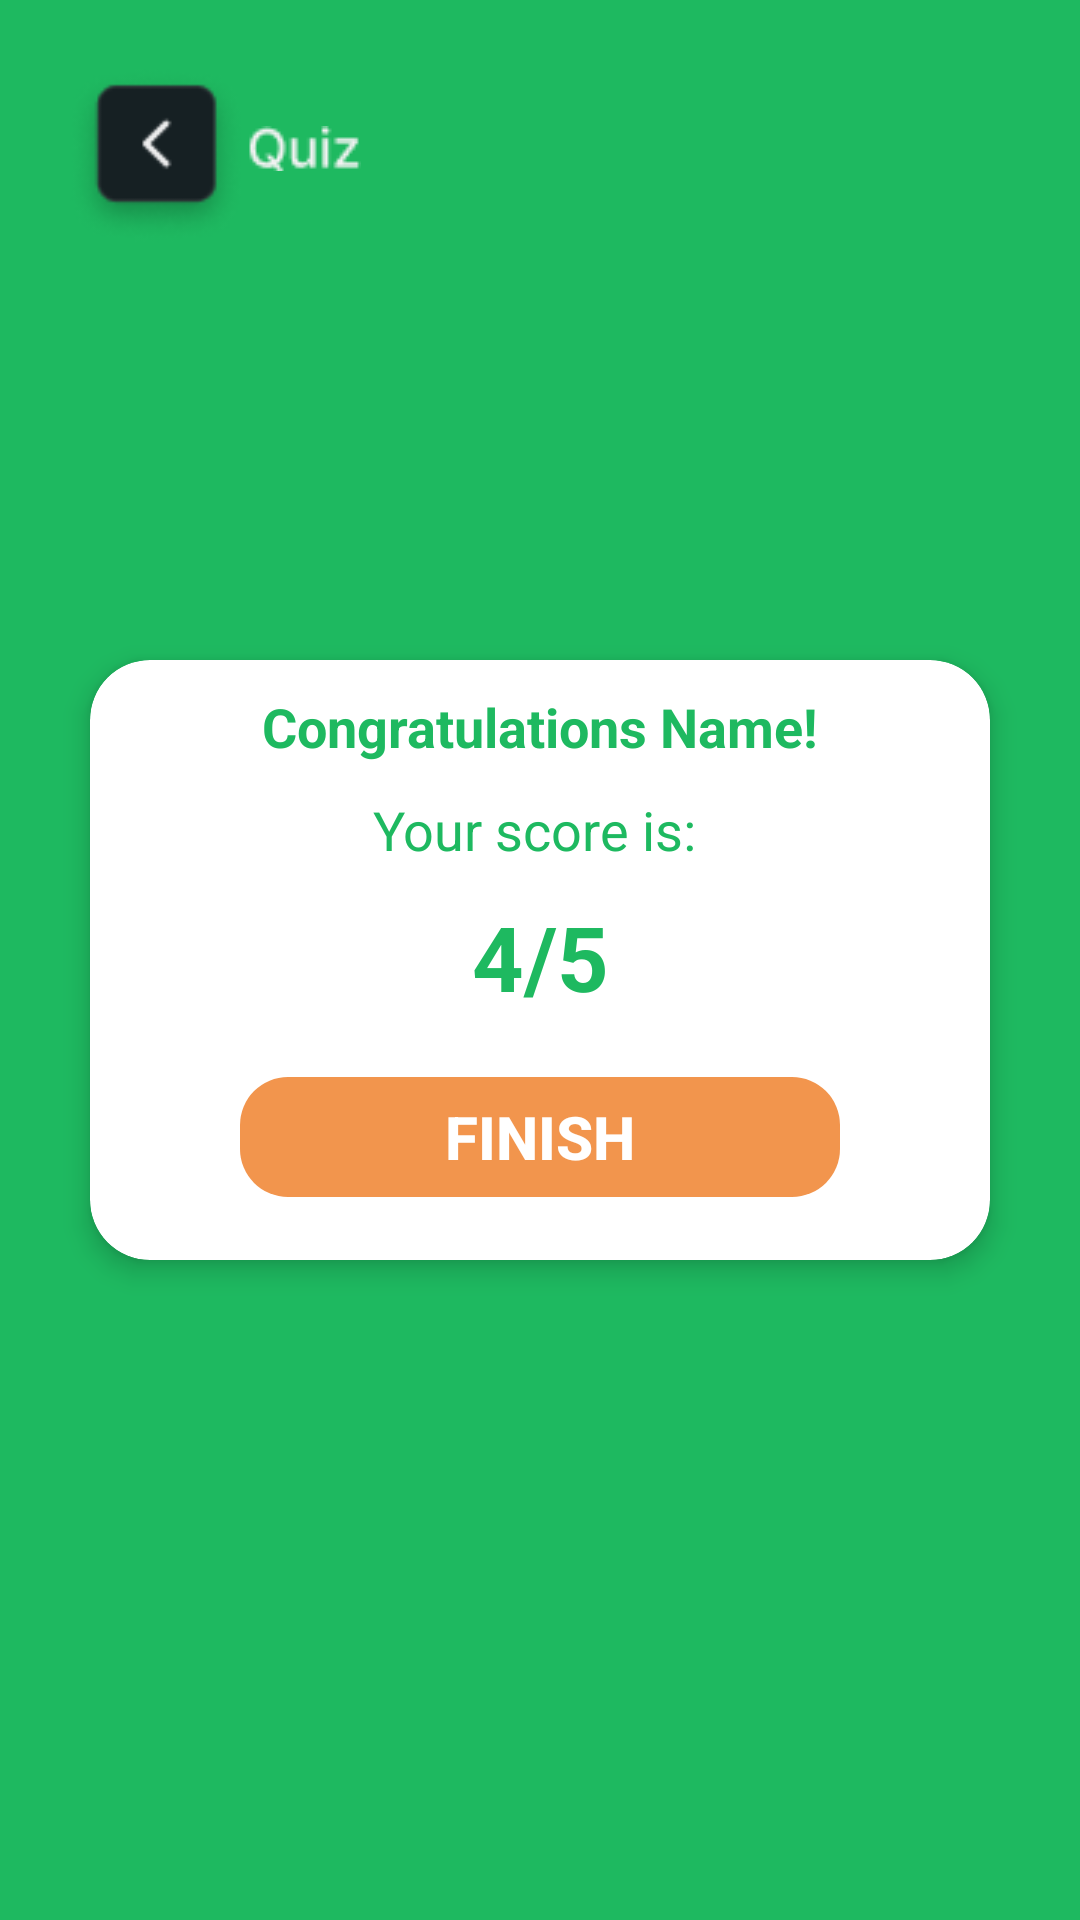

Icons on this 1080px×1920px Android screen, each with its box as (x1,y1,x2,y2):
back: (94,84,217,213)
